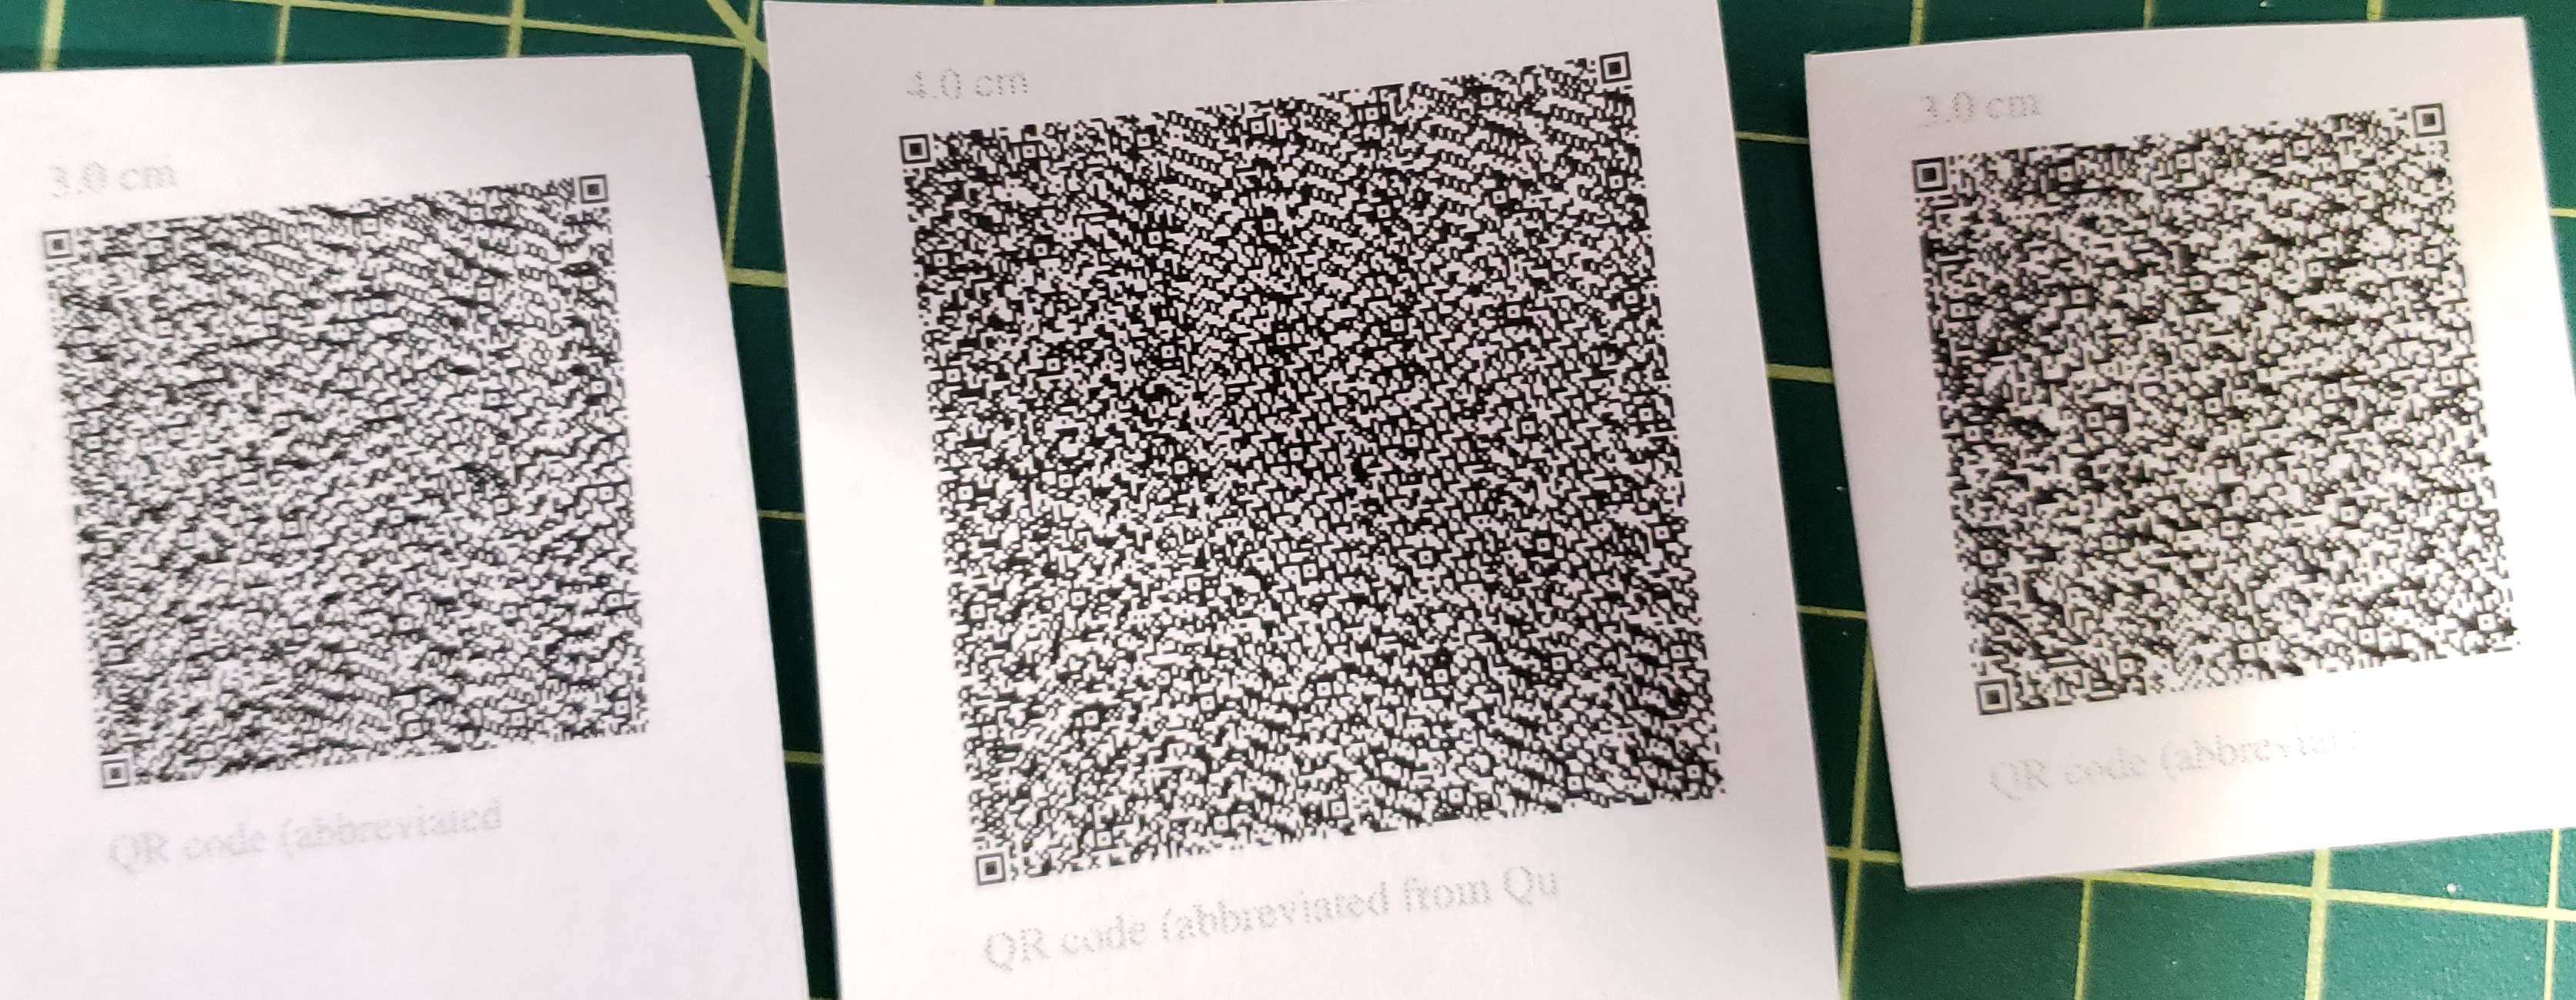QR_CODE: (859, 16, 1756, 921), (5, 128, 701, 834), (1871, 54, 2540, 757)
